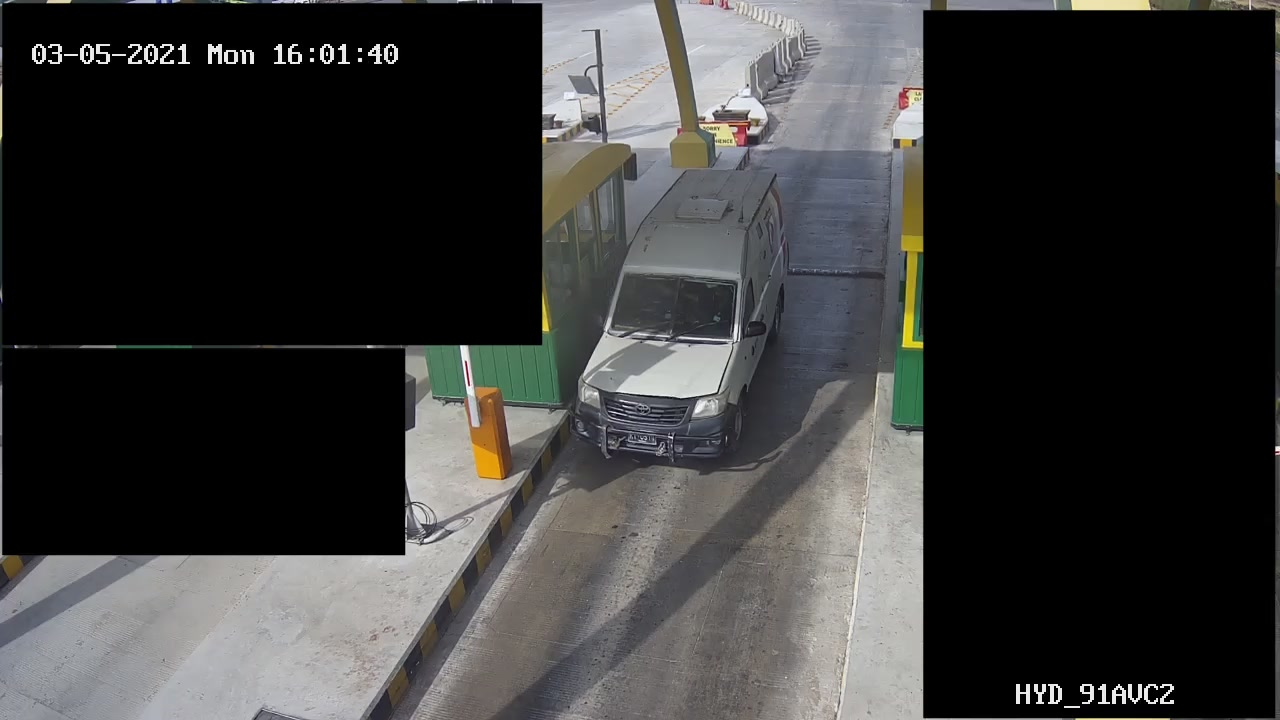F1: (557, 165, 811, 470)
